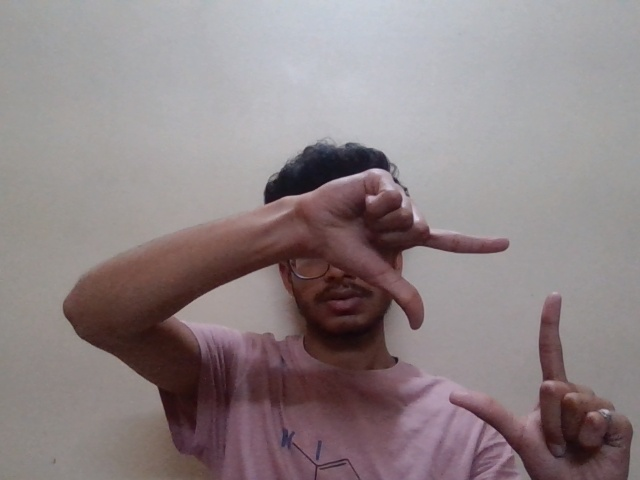video: (333, 166, 617, 466)
